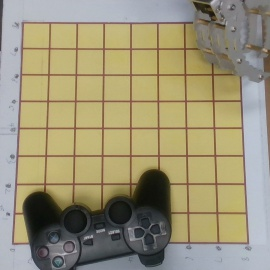remote: (20, 167, 171, 270)
